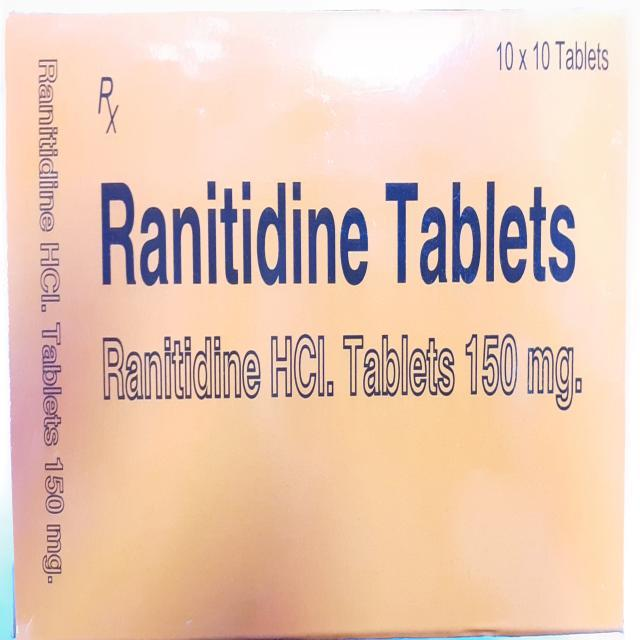drug-name: (99, 171, 374, 297)
